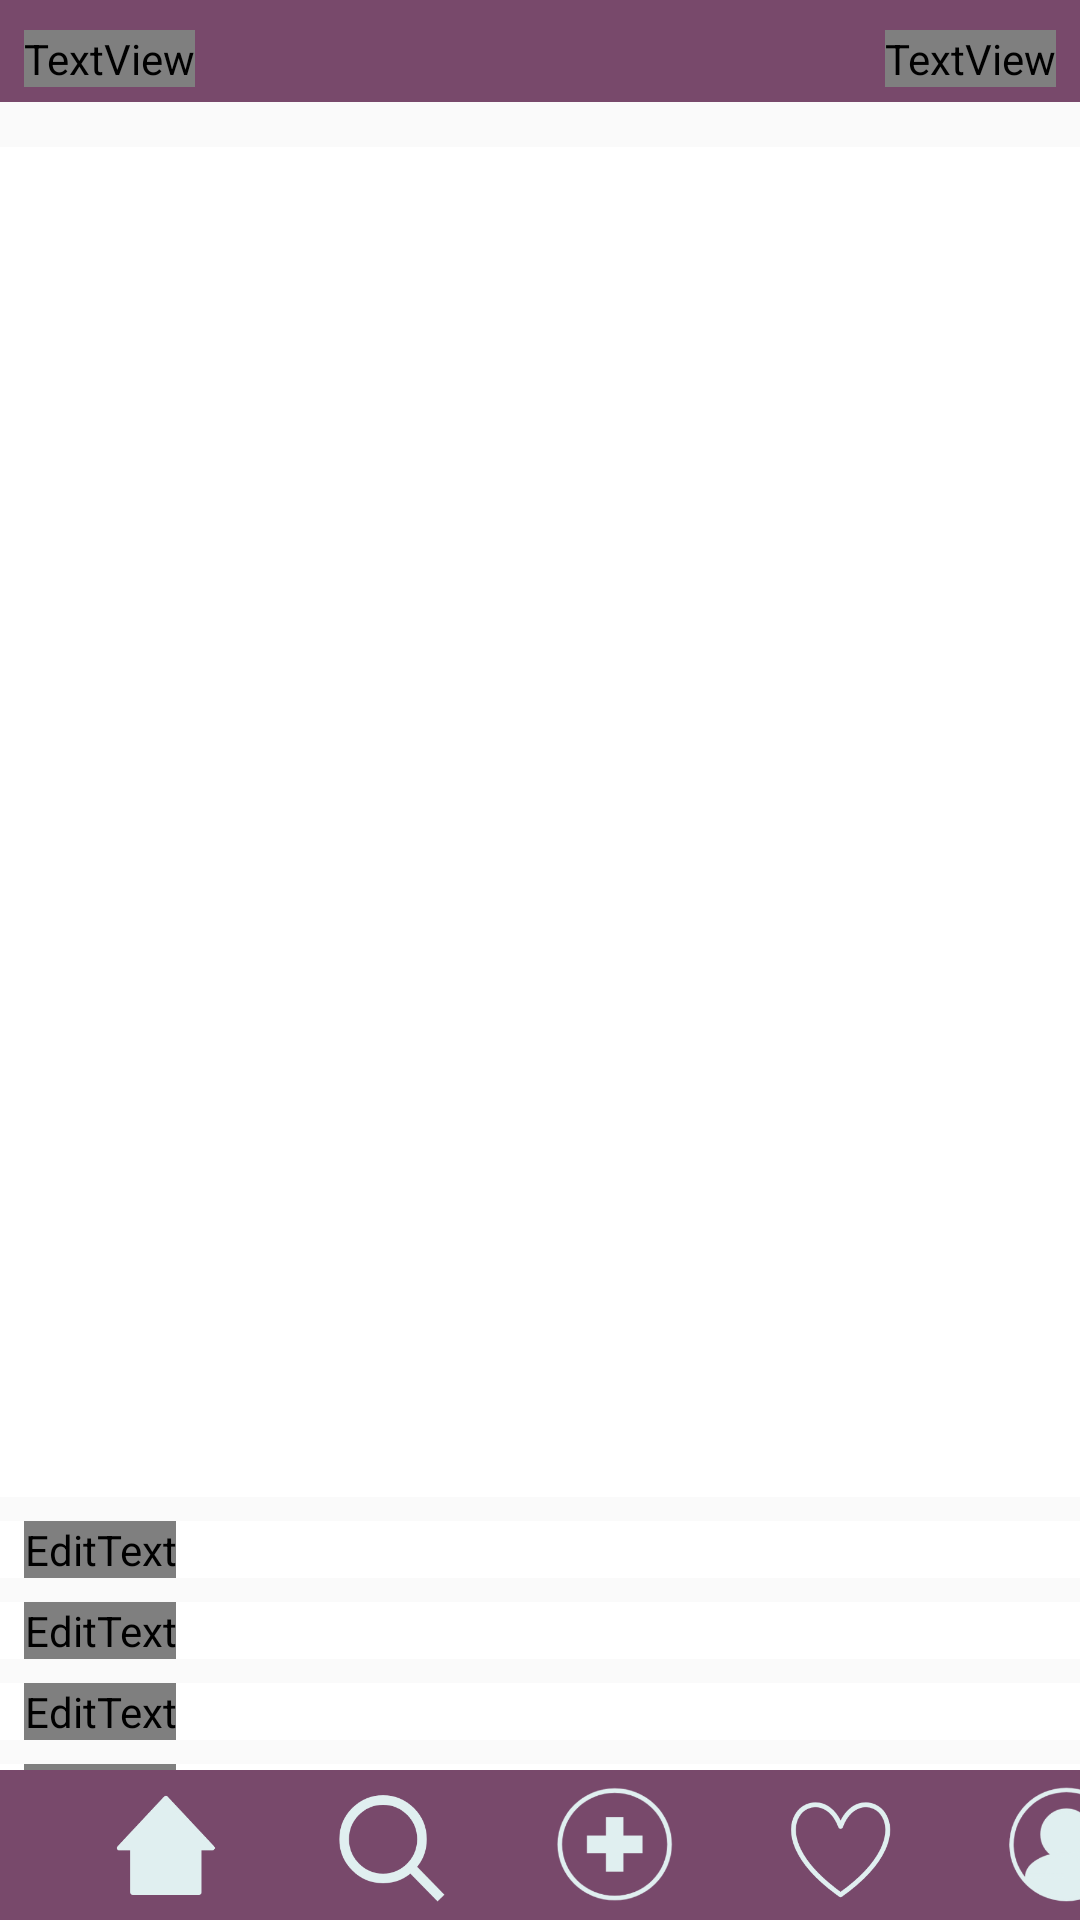

Icons on this 1080 x 1920 Android screen, each with the point to tap as point (x, y):
add: point (614, 1844)
home: point (166, 1845)
search: point (392, 1848)
